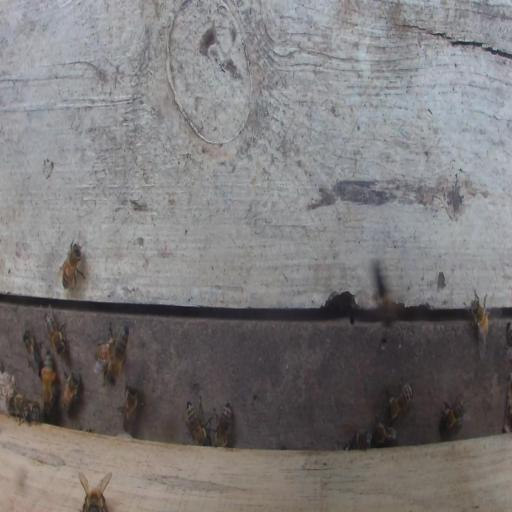bee: (59, 238, 85, 291), (470, 288, 489, 359), (107, 326, 128, 384), (386, 379, 413, 422), (186, 402, 211, 447), (118, 380, 139, 433), (44, 309, 66, 356), (60, 370, 82, 413), (441, 394, 466, 431), (94, 327, 115, 371), (41, 351, 56, 408), (22, 330, 42, 371), (215, 401, 232, 448), (10, 391, 30, 425), (373, 422, 396, 447), (344, 430, 372, 449), (30, 401, 40, 424), (111, 333, 112, 334), (110, 326, 110, 326)
